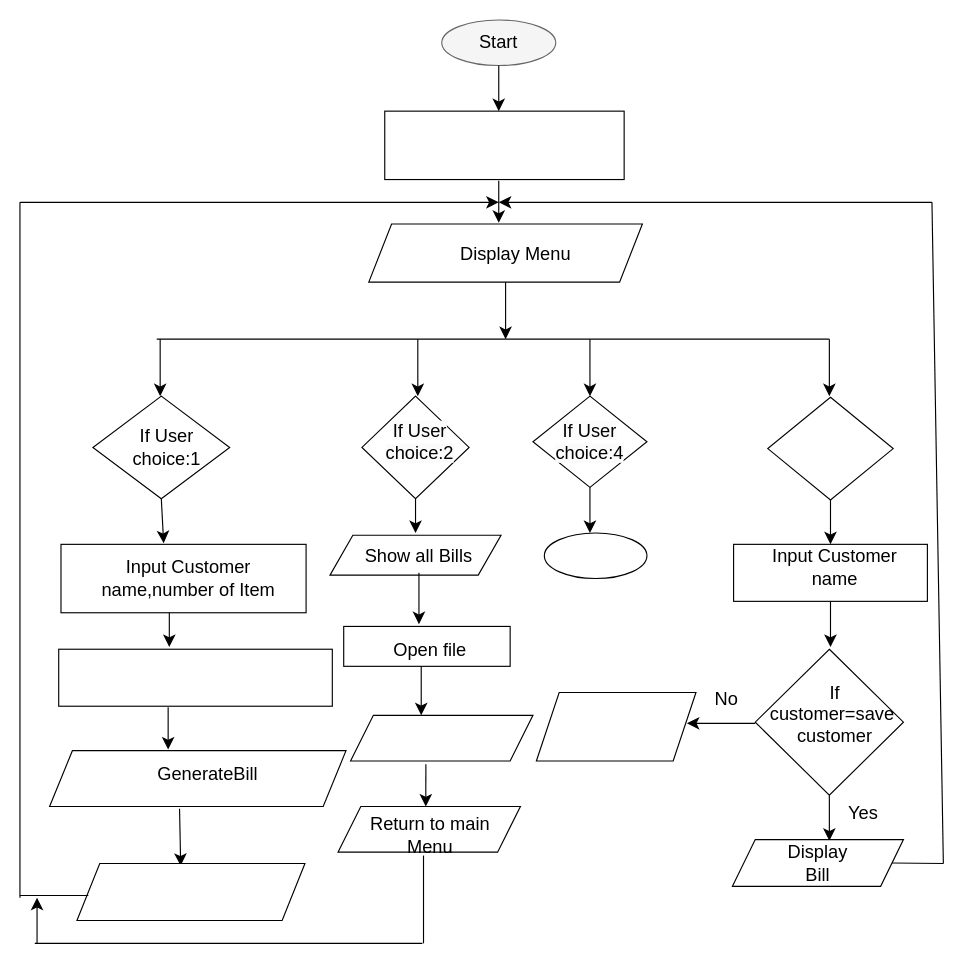
Image size: 963x964. Some labels were removed from this diagram. Here are the shapes that lost their labels. From the top down, the box of each, then its label:
(384, 110, 624, 180): Initialize the items, quantity, name
(767, 396, 893, 500): If User choice:3
(543, 532, 647, 579): End
(58, 648, 332, 706): Loop through the items input Quantity and items
(349, 714, 533, 761): Display bills
(535, 691, 696, 761): User not found error
(76, 862, 305, 921): Save bill? Yes or Not
